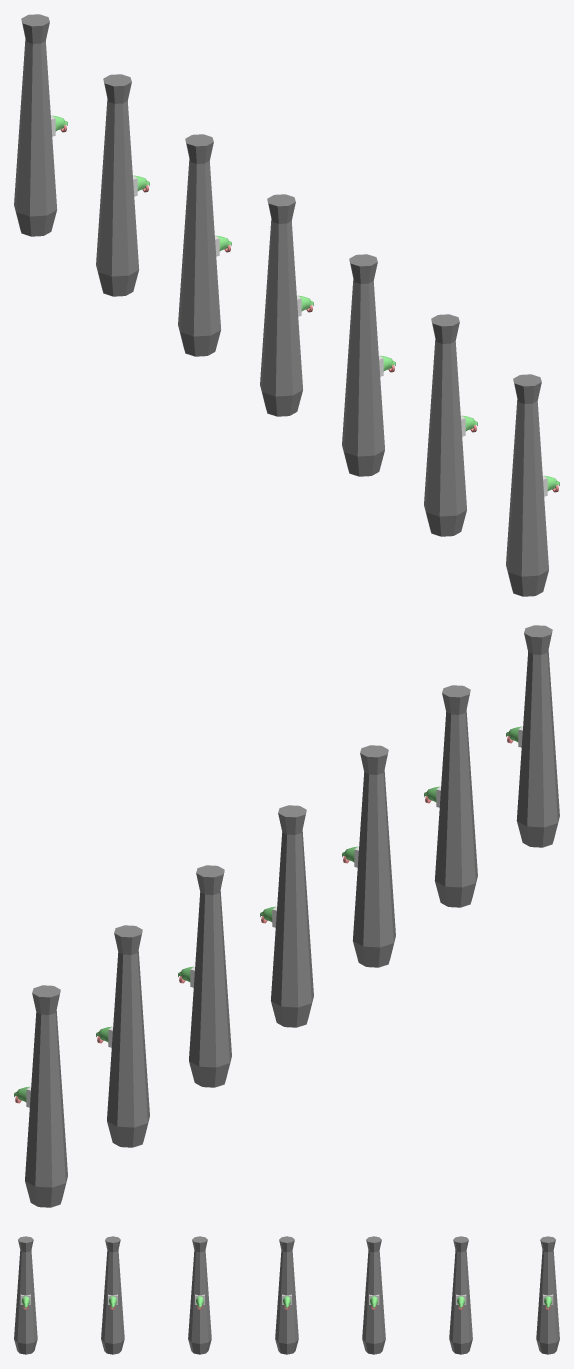
File: SSQ_dungeon_S__SSQ_Room01_pillar02.gltf
The picture shows the model from 3 angles, top to bottom: view 1: azimuth 30°, elevation 25°; view 2: azimuth 150°, elevation 25°; view 3: azimuth 270°, elevation 25°; orthographic projection. The views are drawn at different scales.
Parts seen in each view (by area): view 1: SSQ_Room01_pillar02; view 2: SSQ_Room01_pillar02; view 3: SSQ_Room01_pillar02.
Boxes of the visible parts, <box> form: SSQ_Room01_pillar02: <box>14,14,559,596</box>; SSQ_Room01_pillar02: <box>14,625,559,1207</box>; SSQ_Room01_pillar02: <box>14,1236,559,1354</box>.
Size of the model in its own units: 0.935 by 3.61 by 16.06.
